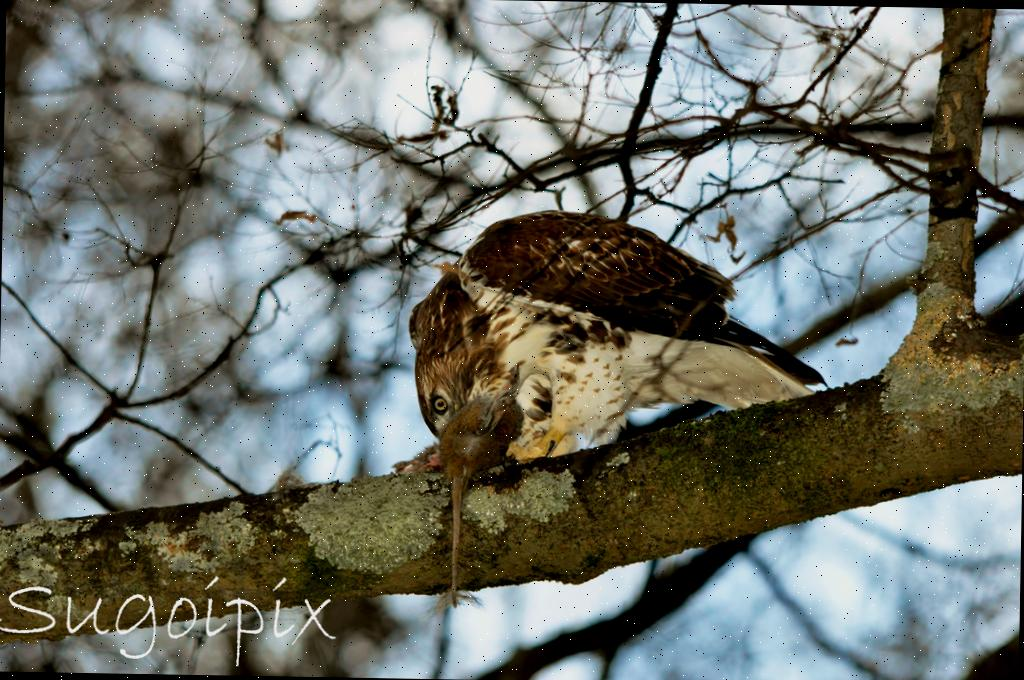Owl: (412, 202, 836, 461)
